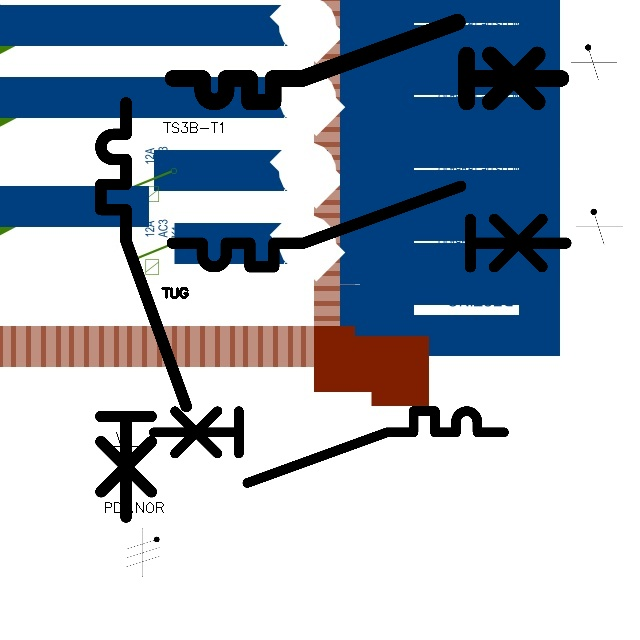interruptor_termomagnetico: (90, 92, 196, 528), (162, 176, 576, 277), (163, 12, 570, 112), (144, 402, 513, 492)
